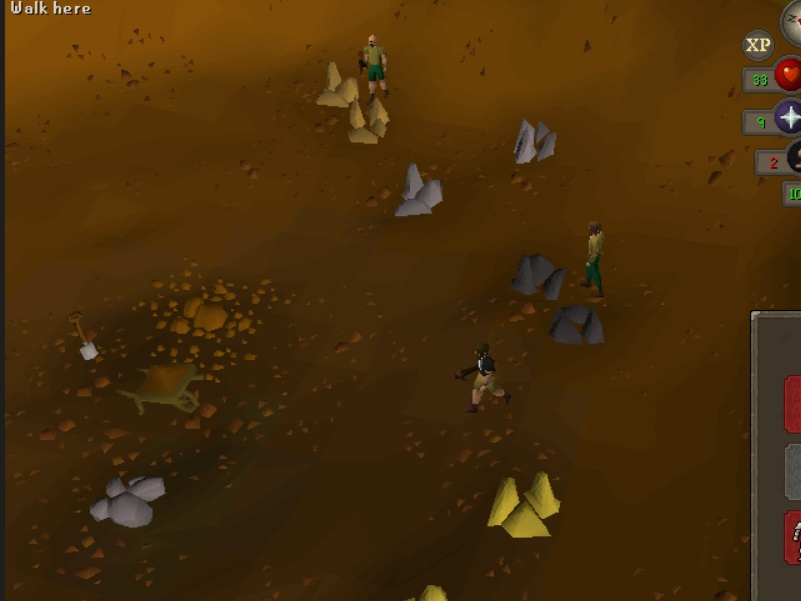clay: (342, 91, 394, 149), (316, 52, 362, 112)
gold: (481, 464, 570, 544)
tin: (393, 159, 454, 222), (506, 113, 567, 176)
